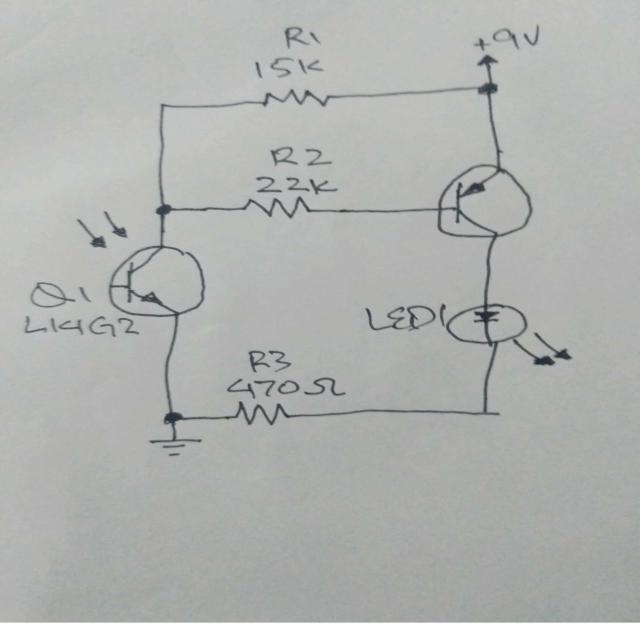diode: (444, 301, 576, 368)
ground: (143, 432, 204, 458)
junction: (477, 82, 499, 97), (162, 410, 184, 425), (154, 203, 173, 217), (476, 406, 495, 420), (154, 100, 171, 111)
resistor: (241, 192, 317, 220), (231, 398, 295, 428), (258, 86, 337, 110)
source: (475, 49, 501, 73)
text: (17, 281, 143, 337), (223, 347, 345, 399), (250, 25, 328, 82), (252, 146, 339, 193), (362, 302, 439, 333), (475, 22, 541, 49)
transistor: (76, 209, 210, 316), (433, 160, 533, 240)
